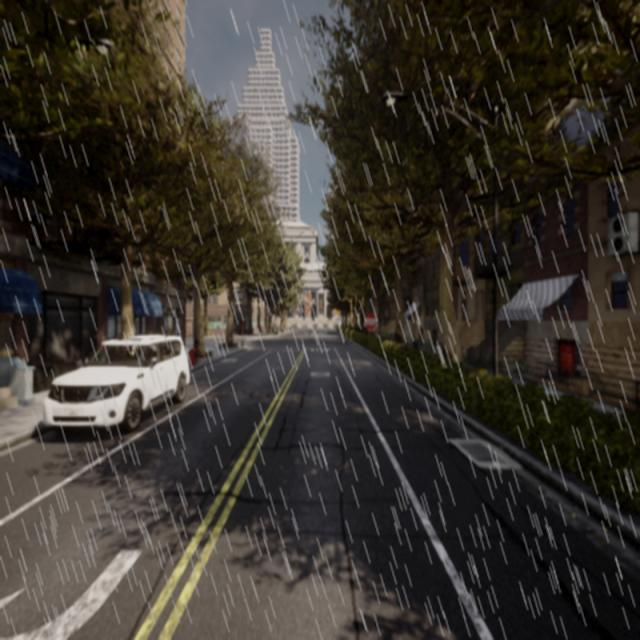stop sign: (361, 308, 379, 334)
